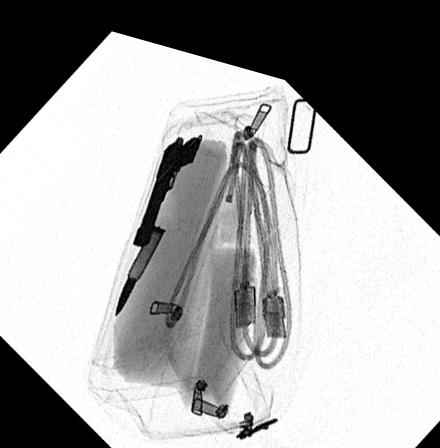Bullet: (114, 215, 167, 310)
Gun: (132, 122, 203, 238)
